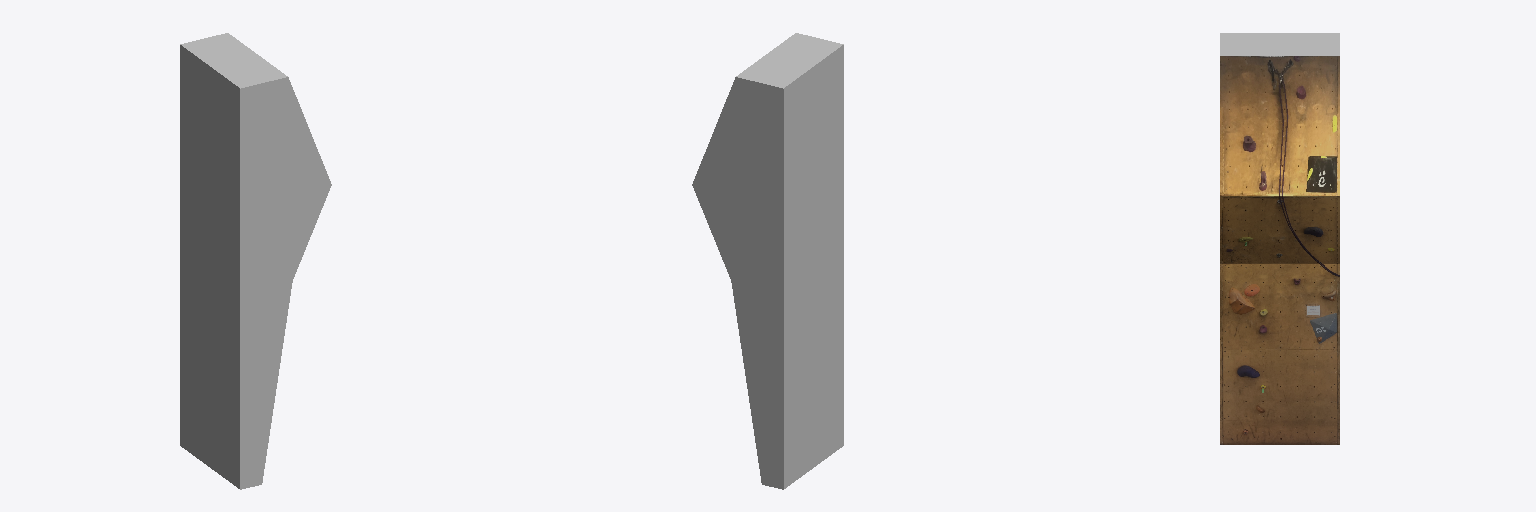
The picture shows the model from 3 angles: view 1: azimuth 30°, elevation 25°; view 2: azimuth 150°, elevation 25°; view 3: azimuth 270°, elevation 25°; orthographic projection.
Parts seen in each view (by area): view 1: Cube; view 2: Cube; view 3: Cube.
Boxes of the visible parts, x1,y1,x2,y2 form: Cube: [180, 33, 331, 489]; Cube: [692, 33, 843, 489]; Cube: [1220, 33, 1339, 444].
Size of the model in its own units: 1.05 by 4.4 by 1.2.
Materials: 2 (1 with a texture image).